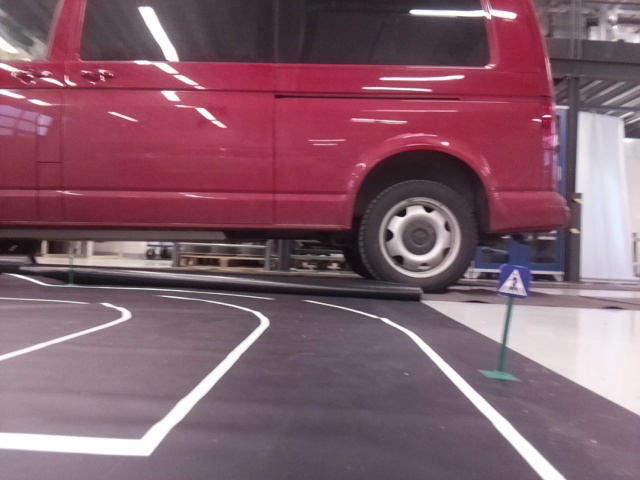Crosswalk: (500, 266, 527, 295)
